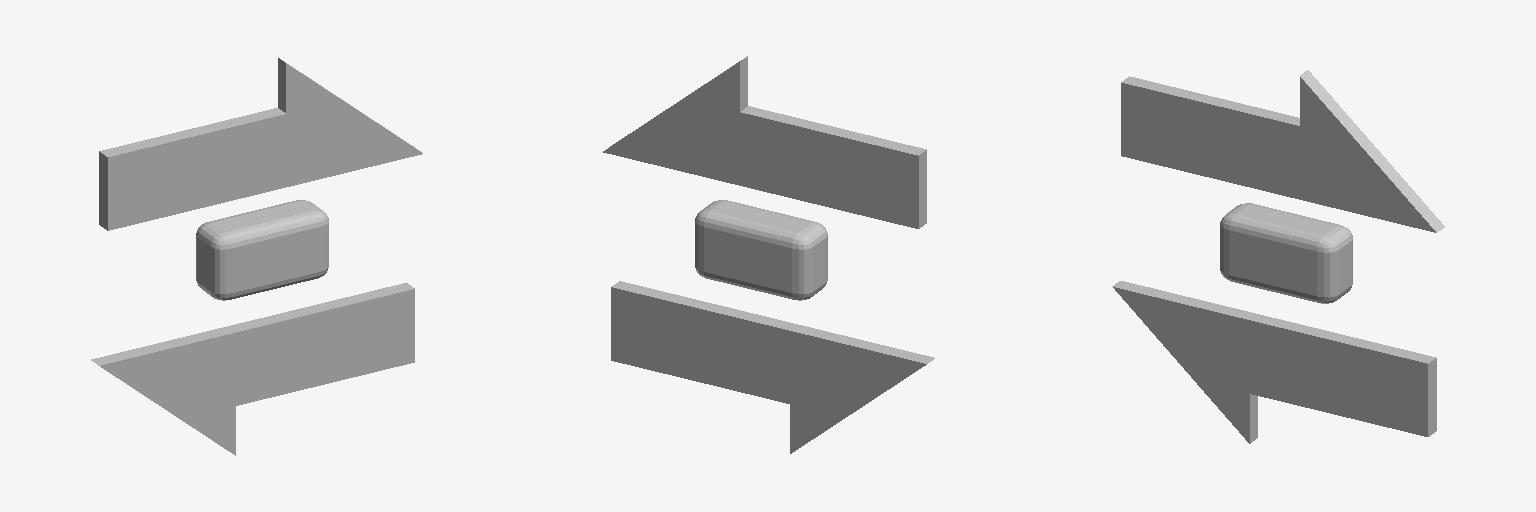
Rendered from sort.obj.
The picture shows the model from 3 angles: view 1: azimuth 30°, elevation 25°; view 2: azimuth 150°, elevation 25°; view 3: azimuth 330°, elevation 25°; orthographic projection.
Parts seen in each view (by area): view 1: Plane004; view 2: Plane004; view 3: Plane004.
Boxes of the visible parts, box(x1,y1,x2,y2) form: Plane004: box(91, 58, 422, 455); Plane004: box(603, 56, 934, 453); Plane004: box(1112, 70, 1444, 443).
Size of the model in its own units: 1.96 by 2.19 by 0.2801.